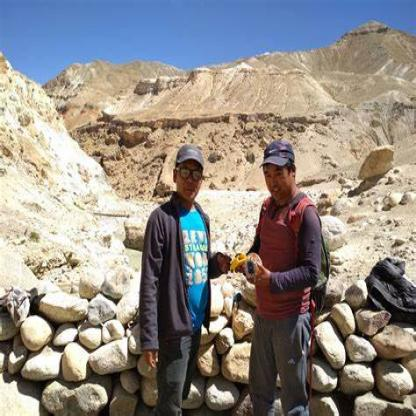person: (240, 107, 336, 414), (140, 116, 212, 415)
